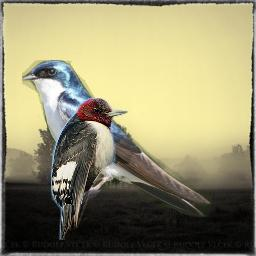Swallow: (22, 60, 212, 217)
Woodpecker: (51, 98, 129, 240)
